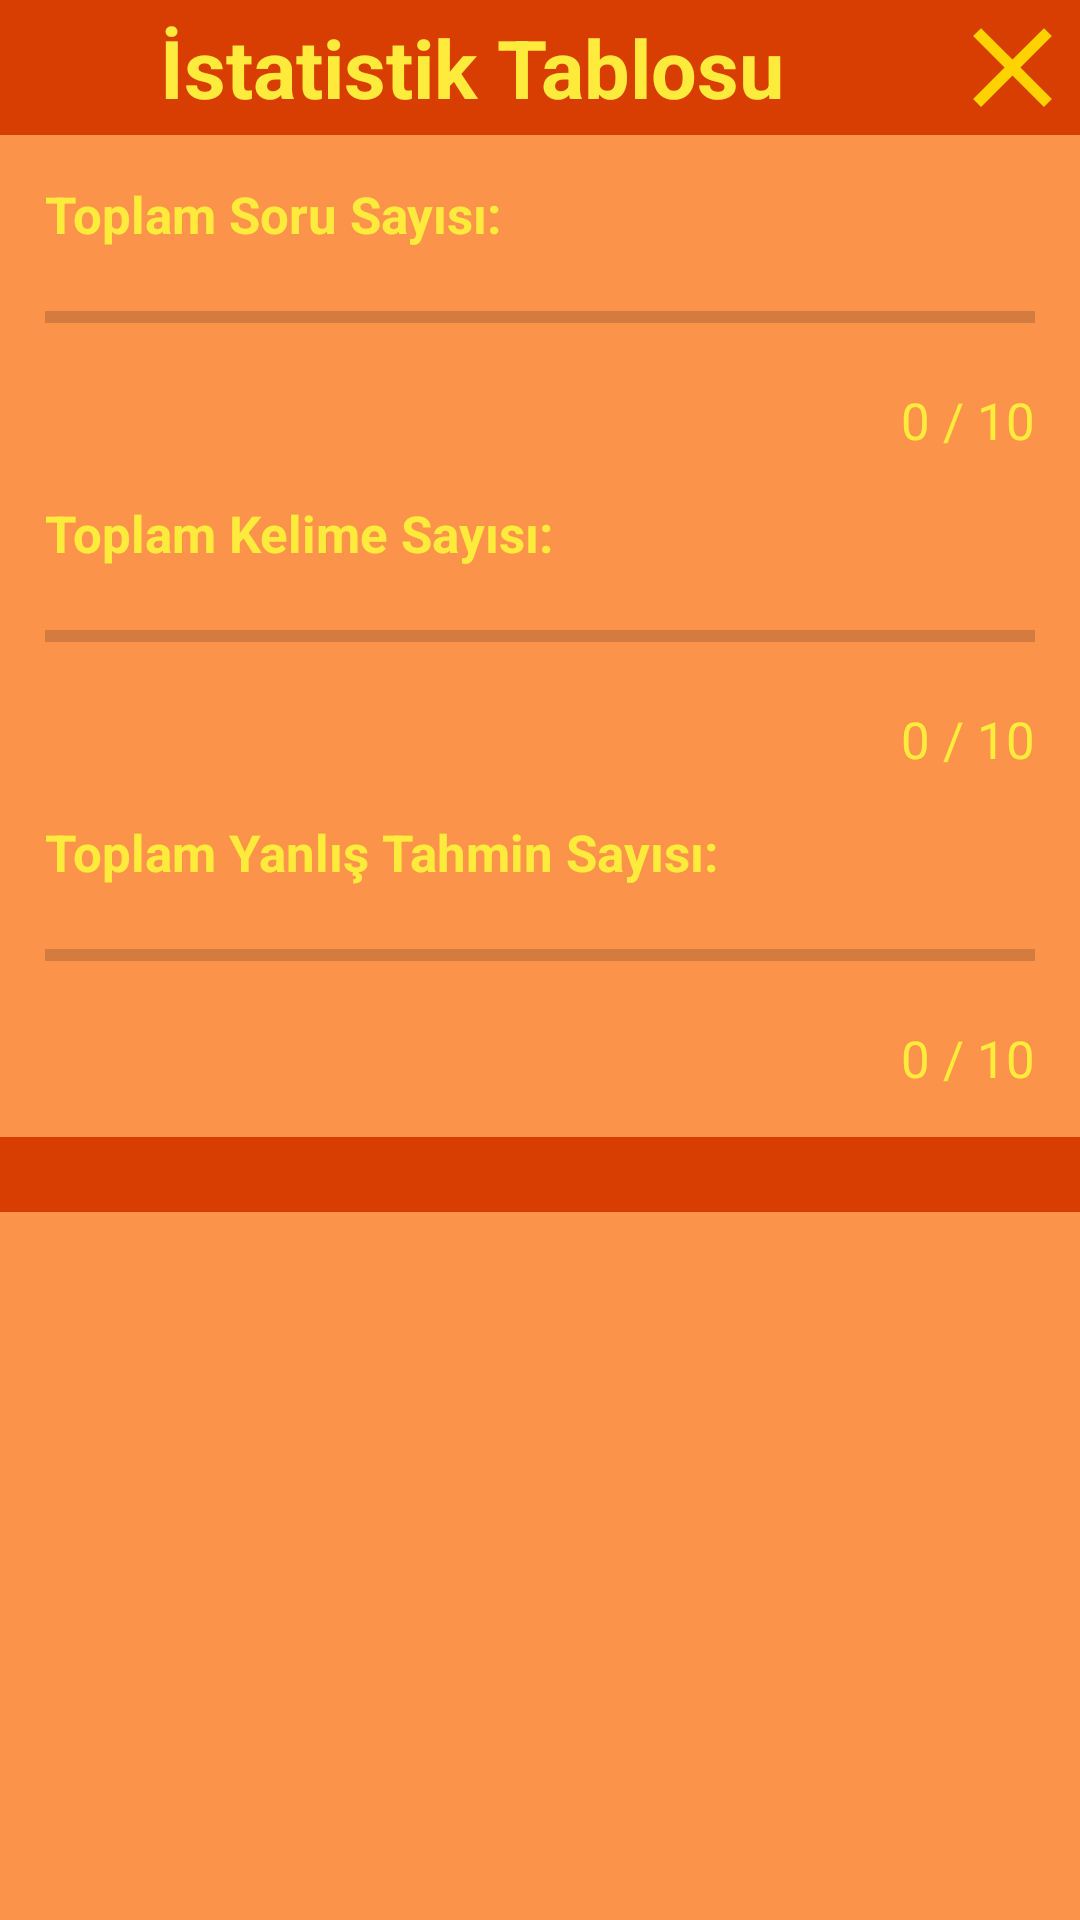

Named icons in this screenshot (1080x1920) and their centers, (x=x, y=y):
close: (x=1012, y=67)
